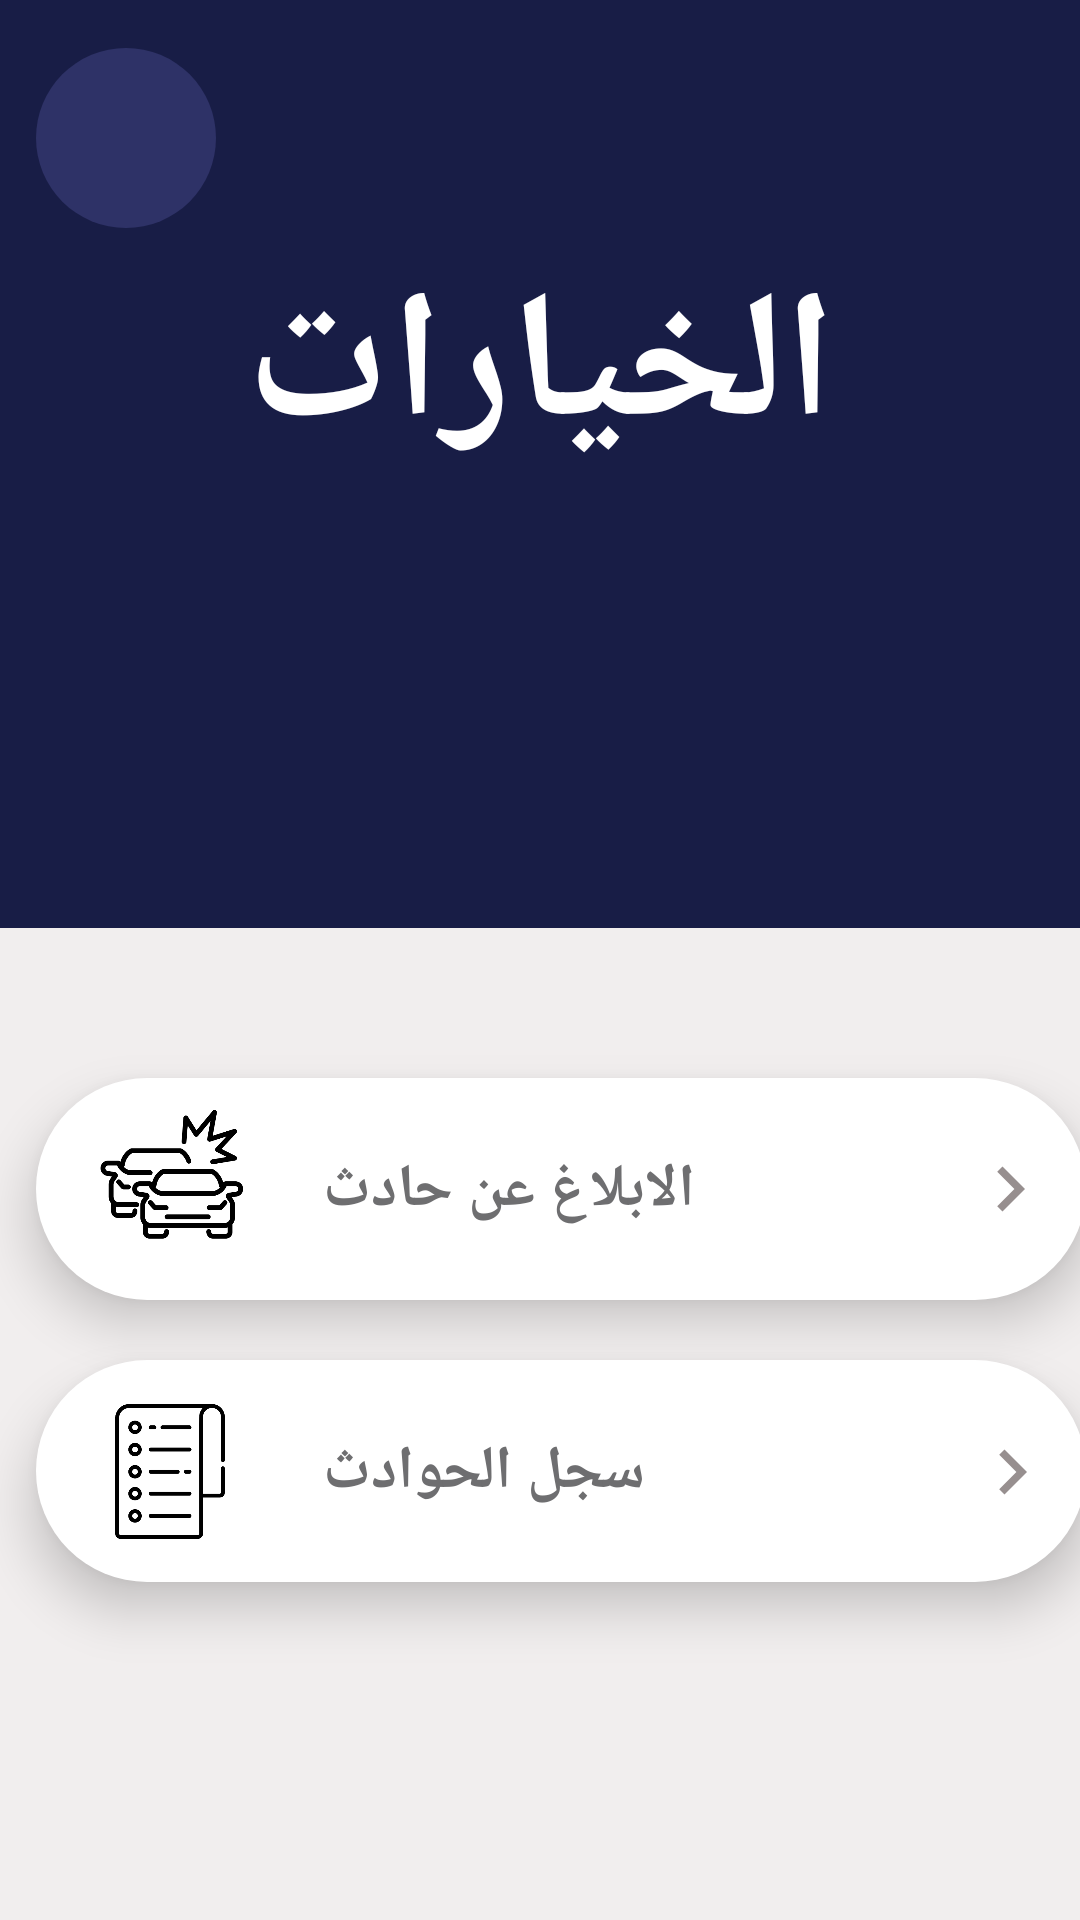

Where icons sit on this 1080 x 1920 app screen, as (x1, y1, x2, y2):
listt: (115, 1404, 225, 1539)
navigate next: (997, 1166, 1025, 1212), (999, 1449, 1027, 1495)
